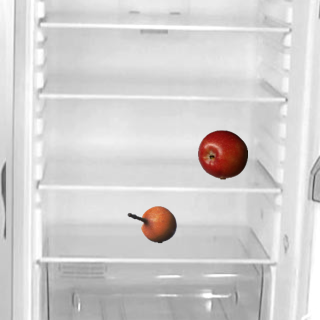Apple Braeburn: (197, 129, 247, 179)
Granadilla: (126, 199, 176, 249)
